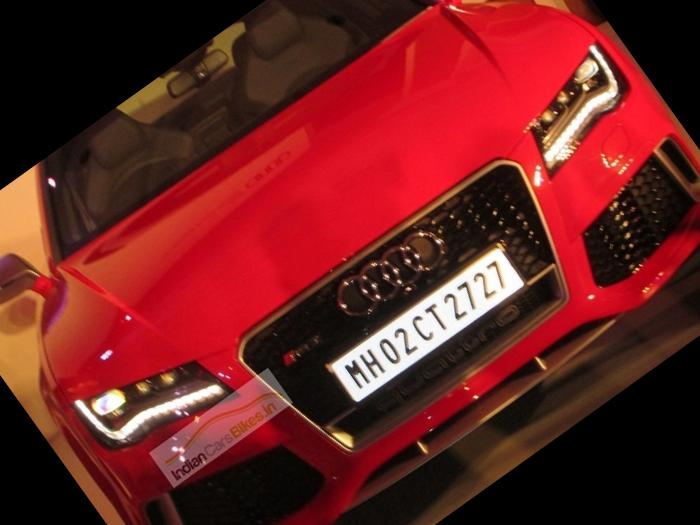plate: (317, 224, 557, 431)
